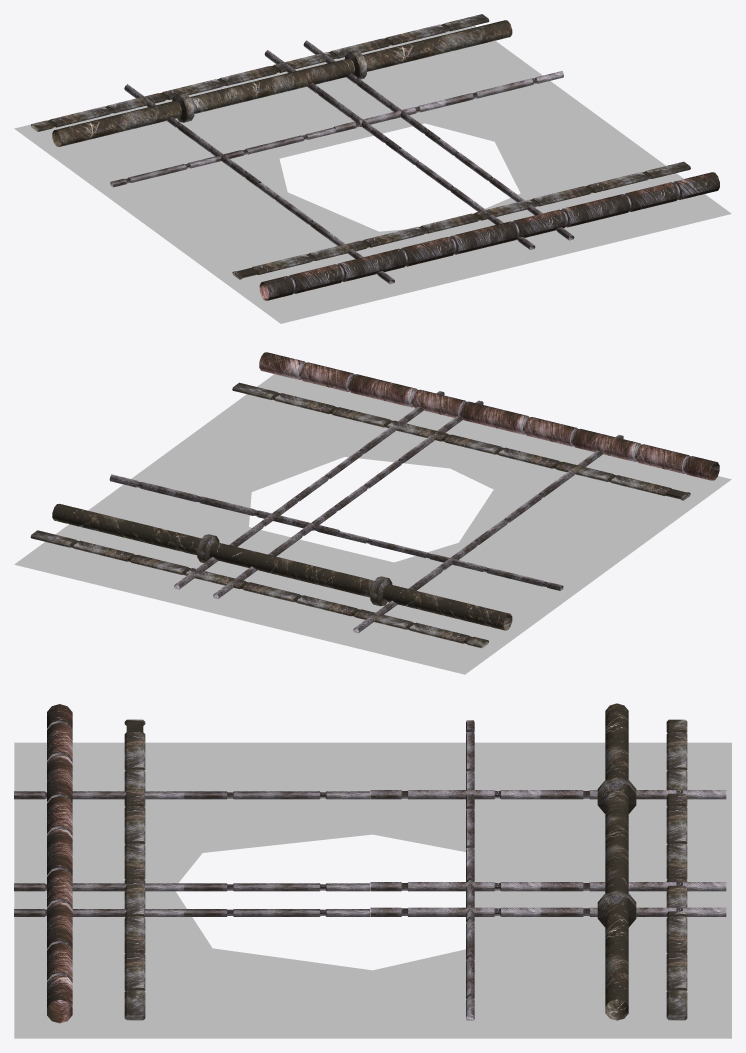
File: metalceiling3.fbx
3 renders of one model, top to bottom at view 1: azimuth 30°, elevation 25°; view 2: azimuth 150°, elevation 25°; view 3: azimuth 270°, elevation 25°, orthographic. The views are drawn at different scales.
Visible parts, largest first — view 1: polySurface574; view 2: polySurface574; view 3: polySurface574.
Boxes of the visible parts, x1,y1,x2,y2 form: polySurface574: [14, 14, 731, 323]; polySurface574: [14, 352, 731, 674]; polySurface574: [14, 703, 731, 1038].
Size of the model in its own units: 146 by 10.65 by 149.
